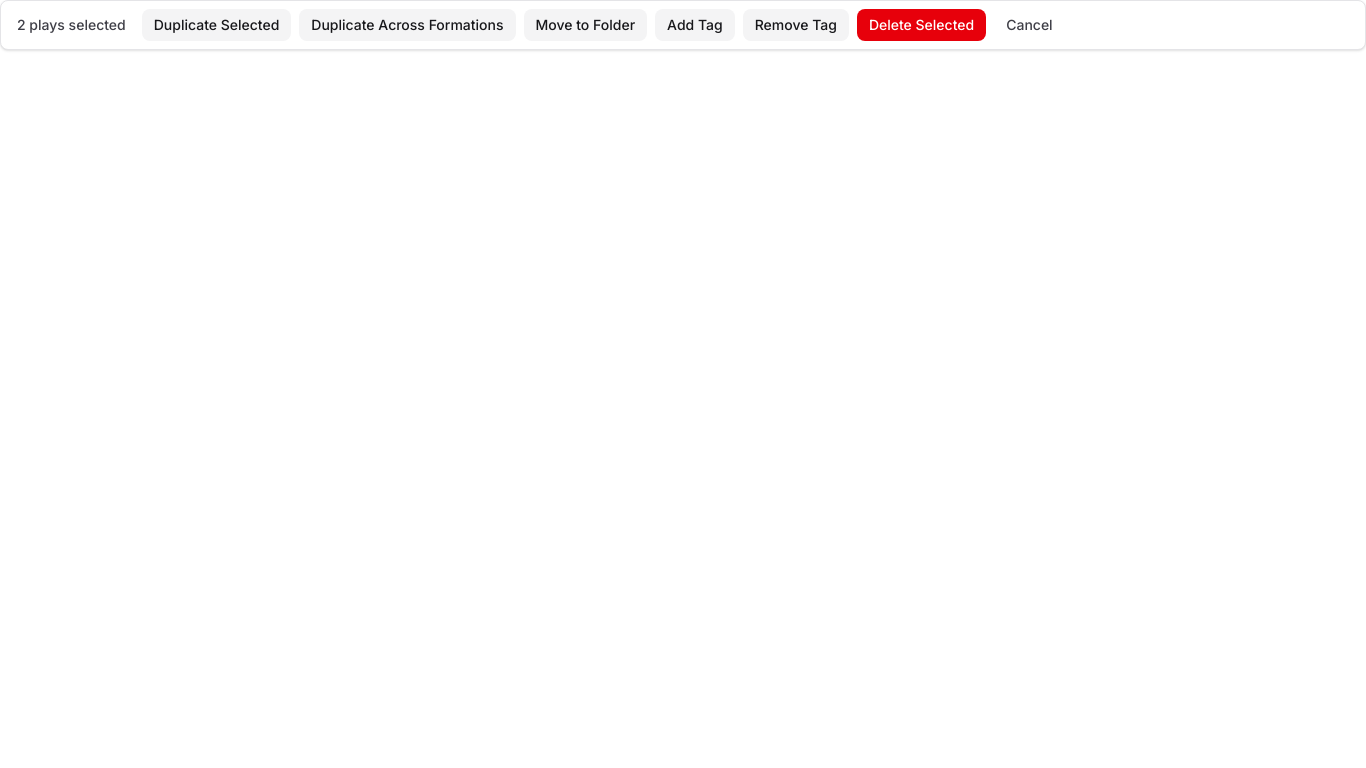
Test: BulkOperations › shows delete confirmation dialog when Delete Selected is clicked
The width and height of the screenshot is (1366, 768).
Click the button "Delete Selected" at coordinates (922, 25), box [857,9,986,41]
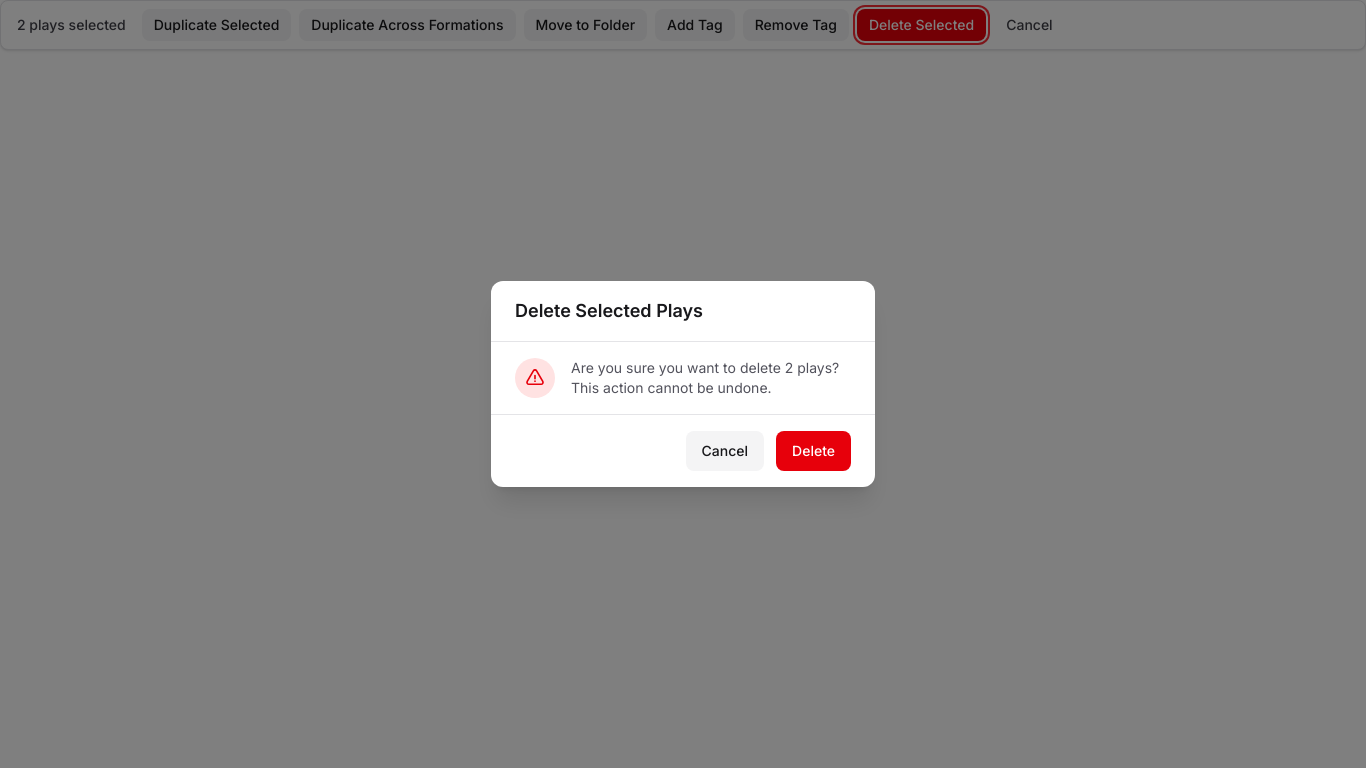
Check: the heading "Delete Selected Plays" is shown, box [515,297,703,325]
Check: the text "Are you sure you want to delete 2 plays" is shown, box [571,359,839,396]
